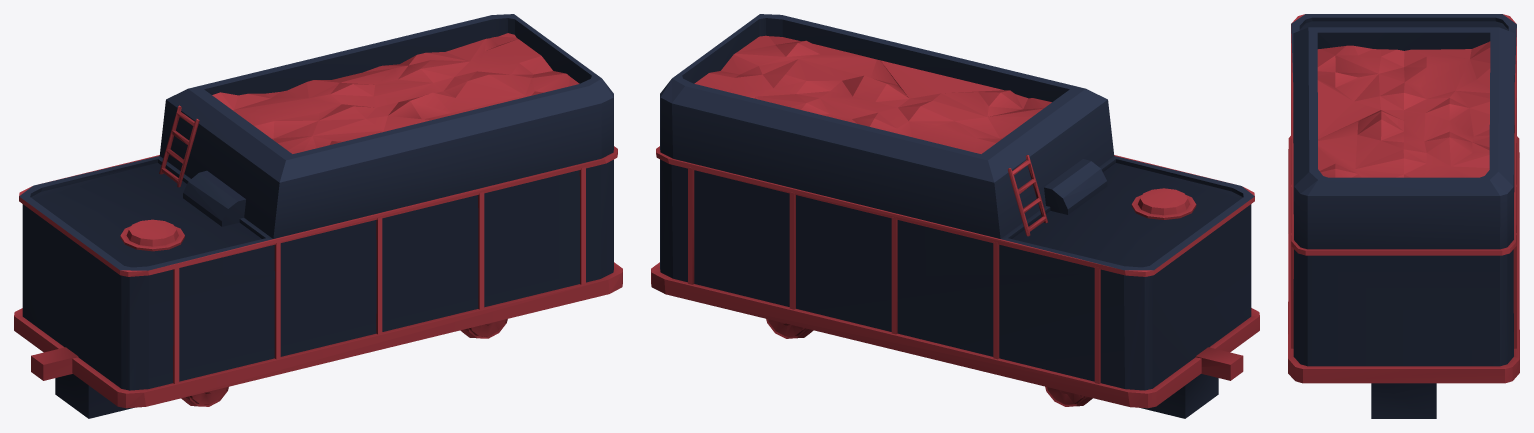
Rendered from train-tender.glb.
3 renders of one model, left to right at view 1: azimuth 30°, elevation 25°; view 2: azimuth 150°, elevation 25°; view 3: azimuth 270°, elevation 25°, orthographic. The views are drawn at different scales.
Visible parts, largest first — view 1: train-tender; view 2: train-tender; view 3: train-tender.
Boxes of the visible parts, bbox=[...] form: train-tender: bbox=[14, 14, 622, 418]; train-tender: bbox=[651, 14, 1259, 418]; train-tender: bbox=[1288, 14, 1519, 418].
Size of the model in its own units: 5.77 by 2.6 by 2.23.
